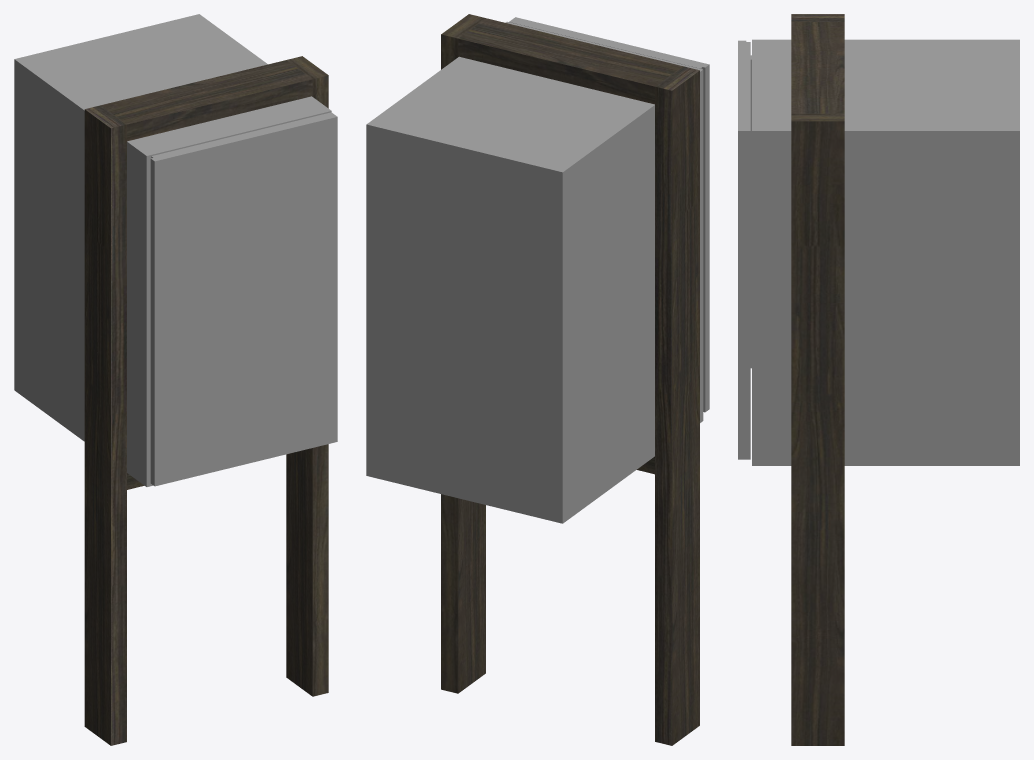
File: de-boxstand_blackebony.fbx
3 views of the same model, side by side, from view 1: azimuth 30°, elevation 25°; view 2: azimuth 150°, elevation 25°; view 3: azimuth 270°, elevation 25° (orthographic). The views are drawn at different scales.
Visible parts, largest first — view 1: de-boxstand-blackebony; view 2: de-boxstand-blackebony; view 3: de-boxstand-blackebony.
Boxes of the visible parts, x1,y1,x2,y2 form: de-boxstand-blackebony: (14, 14, 337, 745); de-boxstand-blackebony: (366, 14, 709, 745); de-boxstand-blackebony: (738, 14, 1019, 745).
Size of the model in its own units: 40.6 by 110 by 45.
3 materials, 2 textured.
